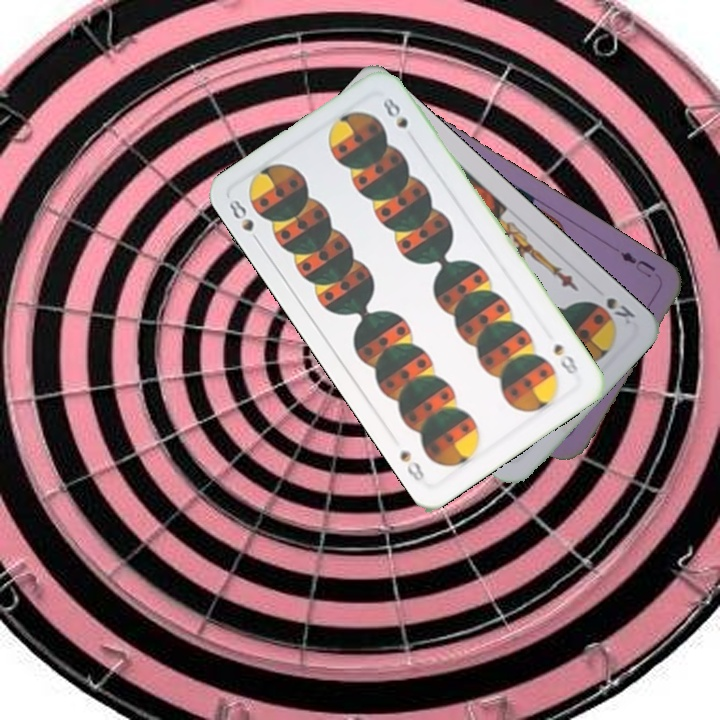EU: (616, 247, 658, 281)
S8: (224, 195, 264, 248), (549, 339, 581, 377)
SK: (602, 293, 638, 328)
